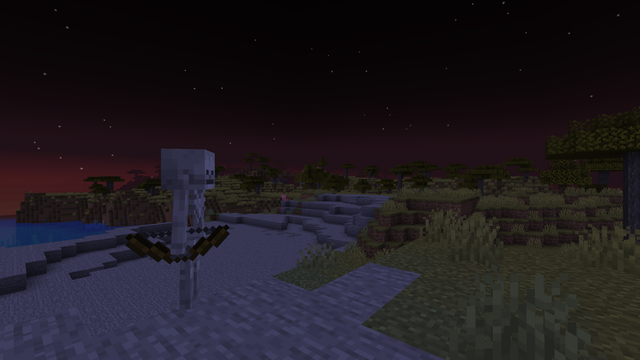cochons: (281, 195, 288, 200)
squelettes: (156, 148, 222, 319)
